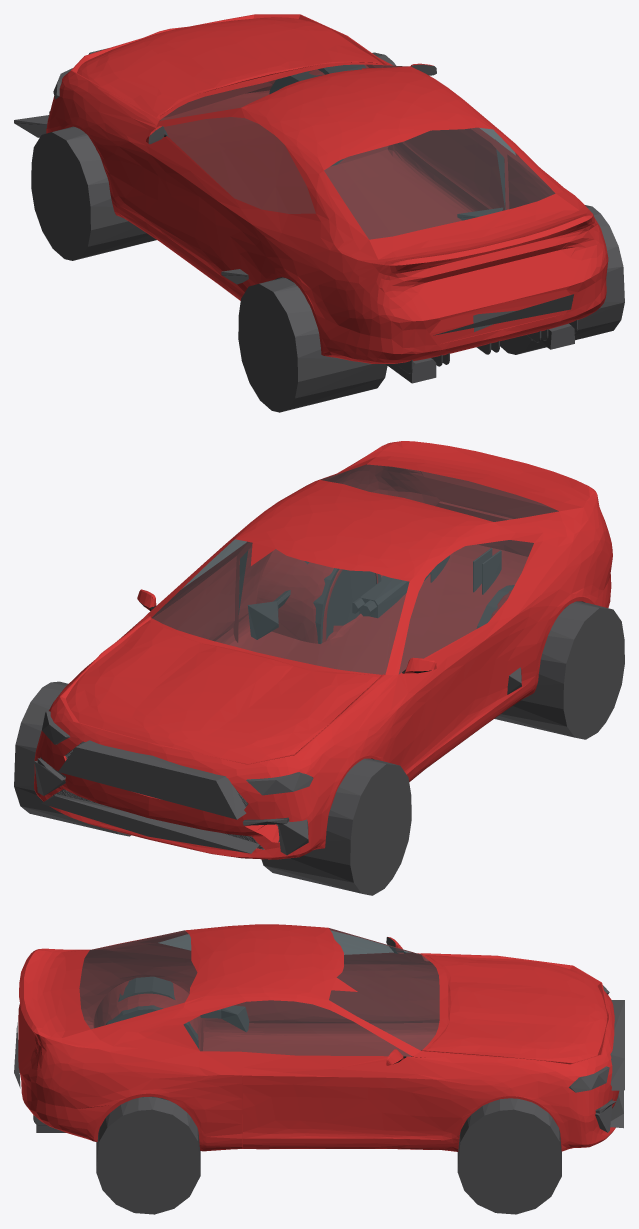
The model's file is mustang.glb.
The picture shows the model from 3 angles, top to bottom: view 1: azimuth 30°, elevation 25°; view 2: azimuth 150°, elevation 25°; view 3: azimuth 270°, elevation 25°; orthographic projection. The views are drawn at different scales.
Visible parts, largest first — view 1: Mustang; view 2: Mustang; view 3: Mustang.
Boxes of the visible parts, x1,y1,x2,y2 form: Mustang: (14,14,624,412); Mustang: (14,441,624,895); Mustang: (14,924,624,1214).
Bounding box in the file's own units: 5.19 × 3.32 × 9.63.
